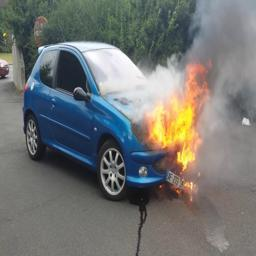fire: (148, 64, 209, 171)
